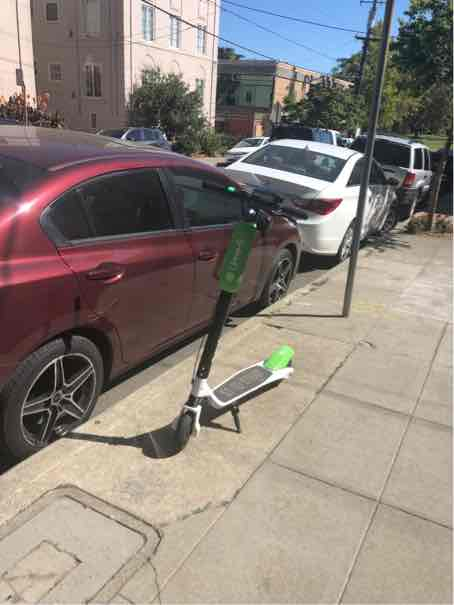scooter: (170, 170, 336, 462)
